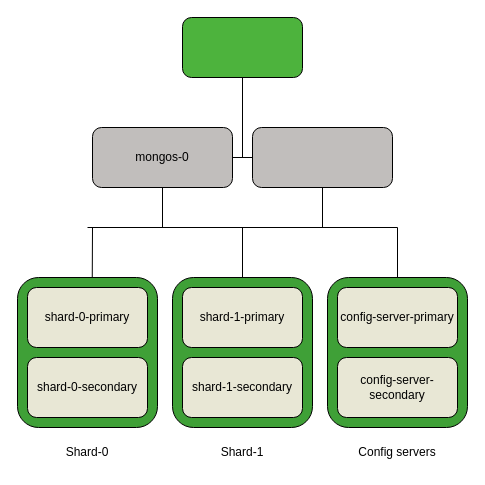
Image size: 485x485. Some labels were removed from this diagram. Here are the shapes that lost their labels. From the top down, the box of each, then its label:
(182, 16, 302, 78): Klient MongoDB-Compass
(252, 126, 392, 188): mongos-1
